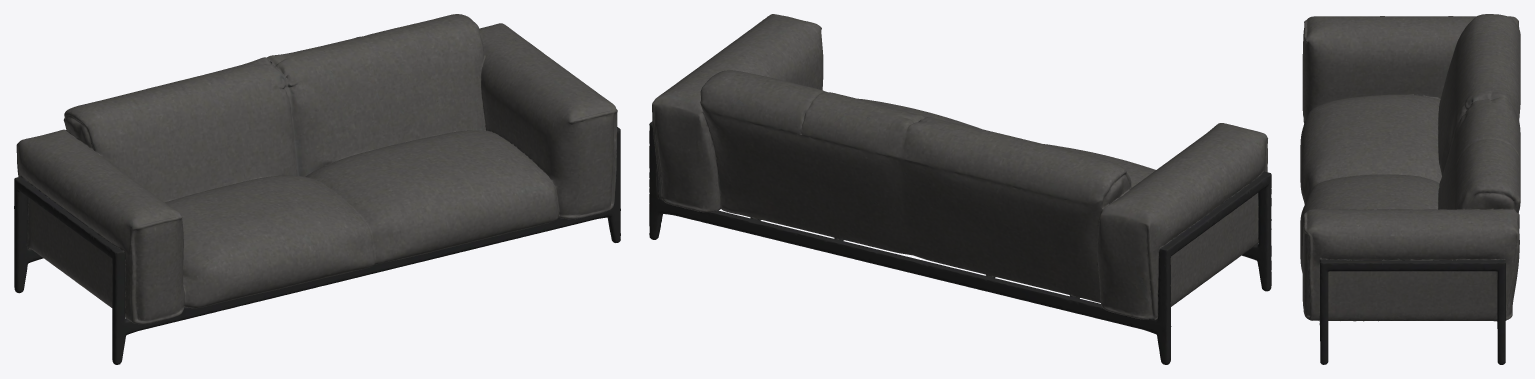
File: B07124WQLW.glb
3 renders of one model, left to right at view 1: azimuth 30°, elevation 25°; view 2: azimuth 150°, elevation 25°; view 3: azimuth 270°, elevation 25°, orthographic. The views are drawn at different scales.
Parts seen in each view (by area): view 1: geometry_0; view 2: geometry_0; view 3: geometry_0.
Boxes of the visible parts, x1,y1,x2,y2 form: geometry_0: [14, 14, 620, 364]; geometry_0: [649, 14, 1271, 364]; geometry_0: [1300, 14, 1520, 364].
Size of the model in its own units: 0.9325 by 0.3063 by 0.3884.
Materials: 1 (1 with a texture image).
